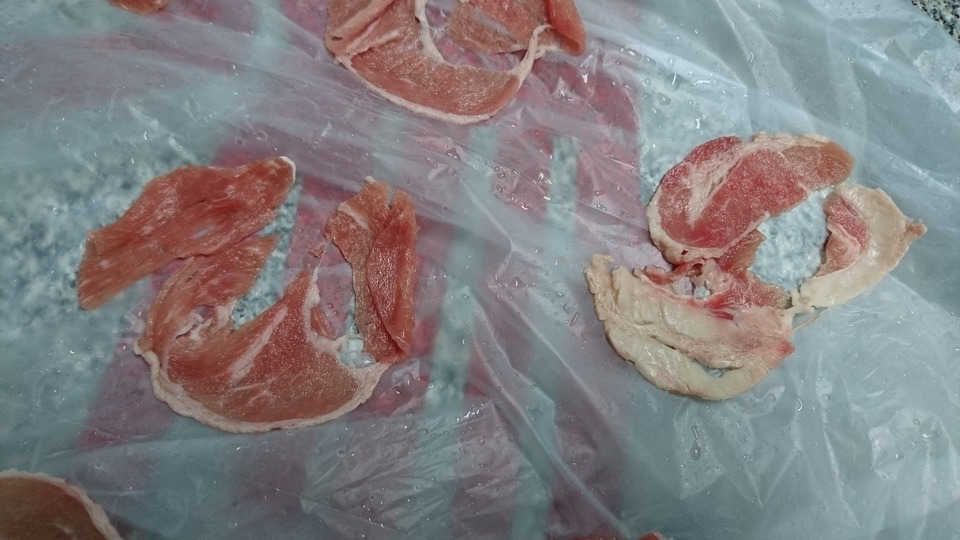restructured meat: (80, 152, 420, 438), (582, 123, 922, 409)
